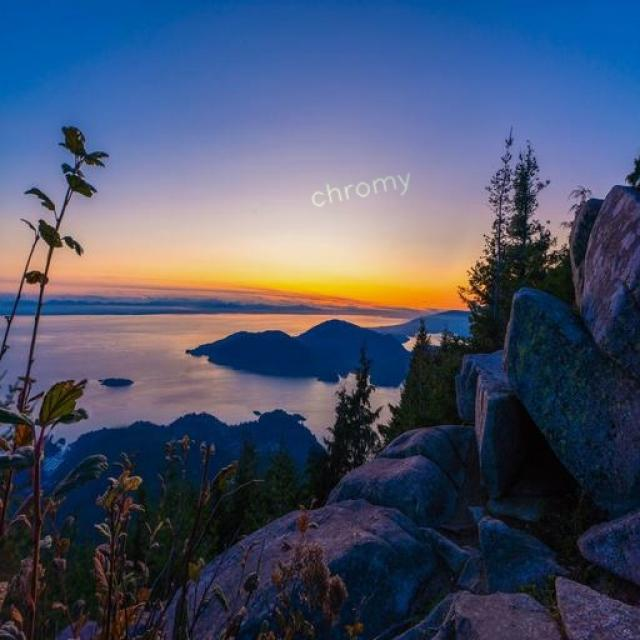watermark: (304, 163, 413, 211)
